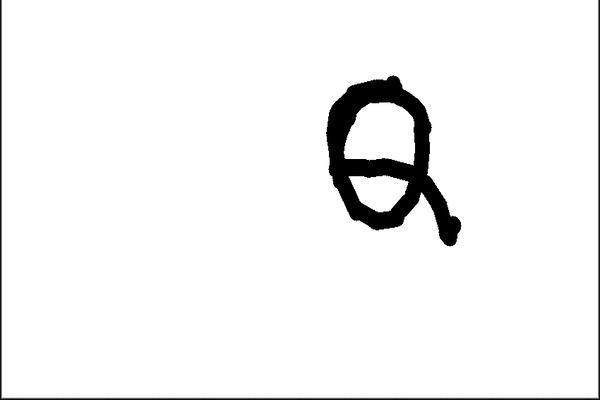Q: (315, 74, 464, 256)
